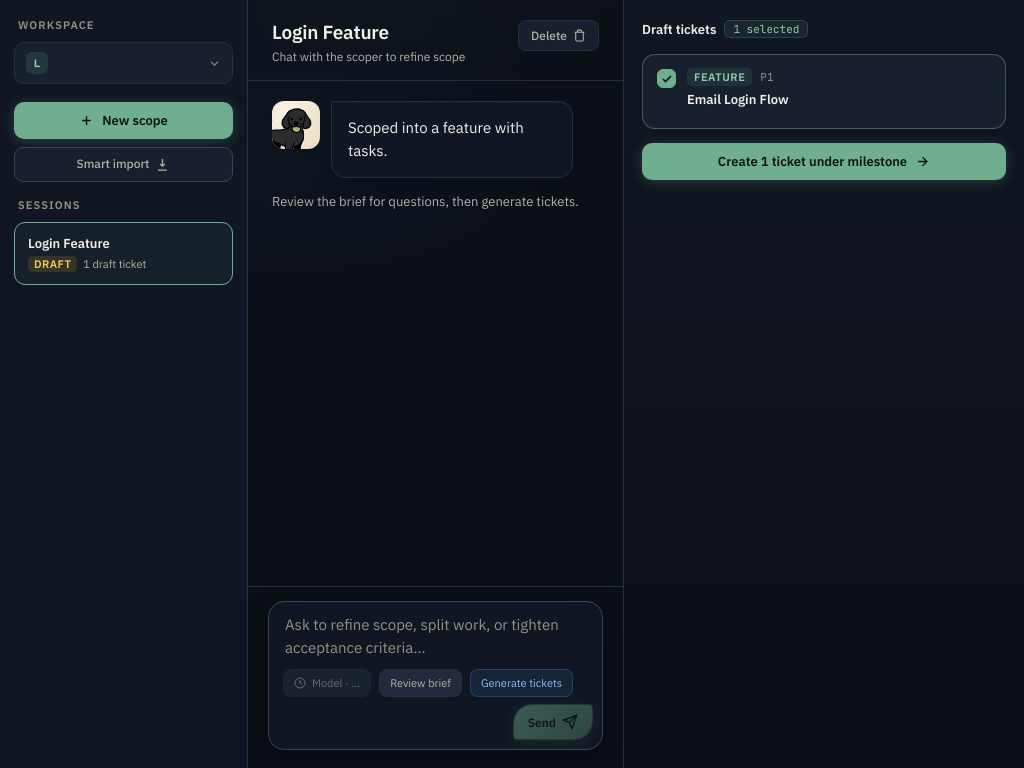
Test: ADVA-INT-2: Network Failure Scenarios › ADVA-INT-2.2: handles a connection-refused network error
Click the button "Create 1 ticket under milestone" at coordinates (824, 161), box [642, 143, 1006, 180]
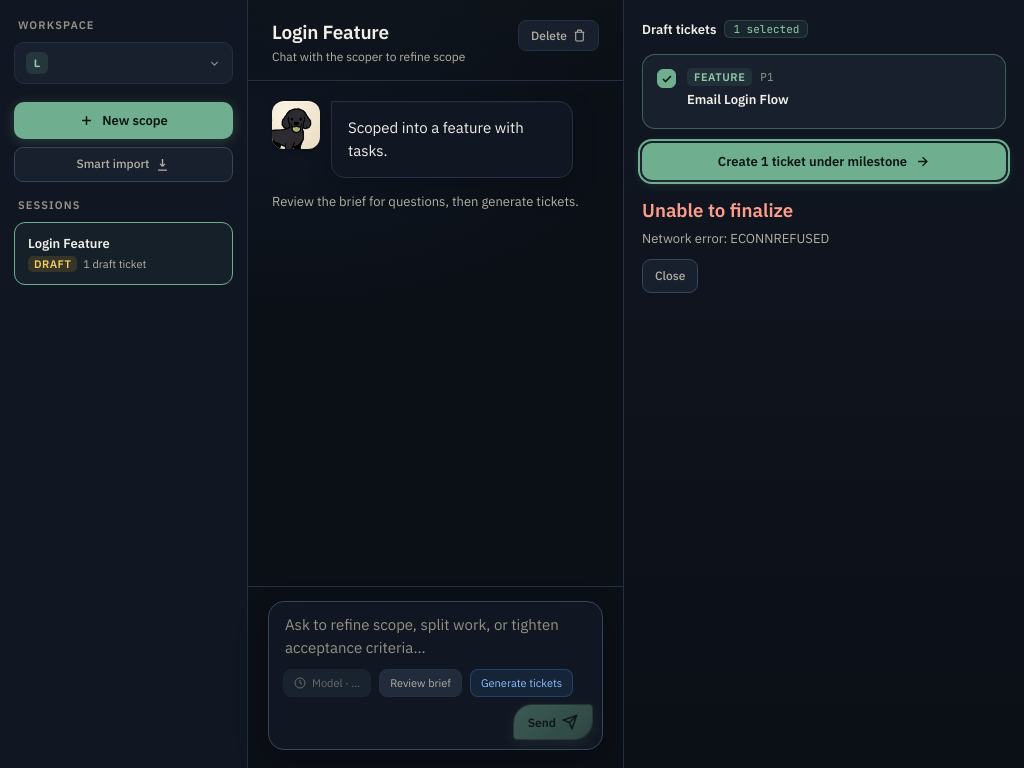
expect the text "Network error: ECONNREFUSED" is shown: met, box [642, 230, 829, 247]
